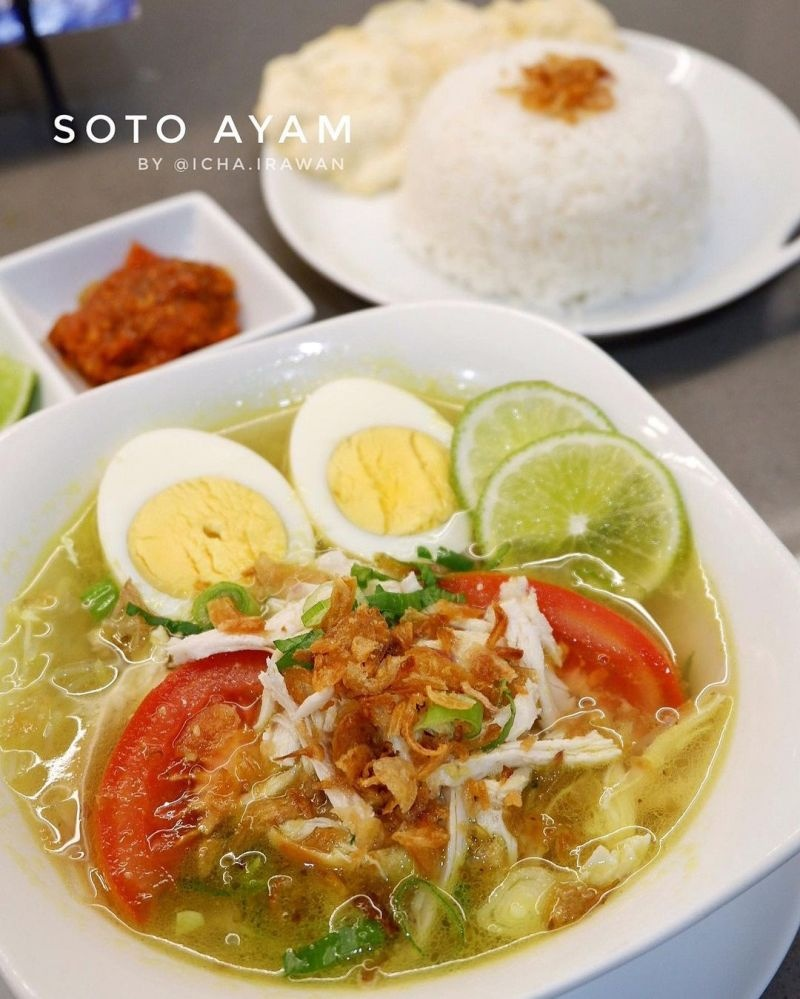soto: (18, 339, 767, 969)
